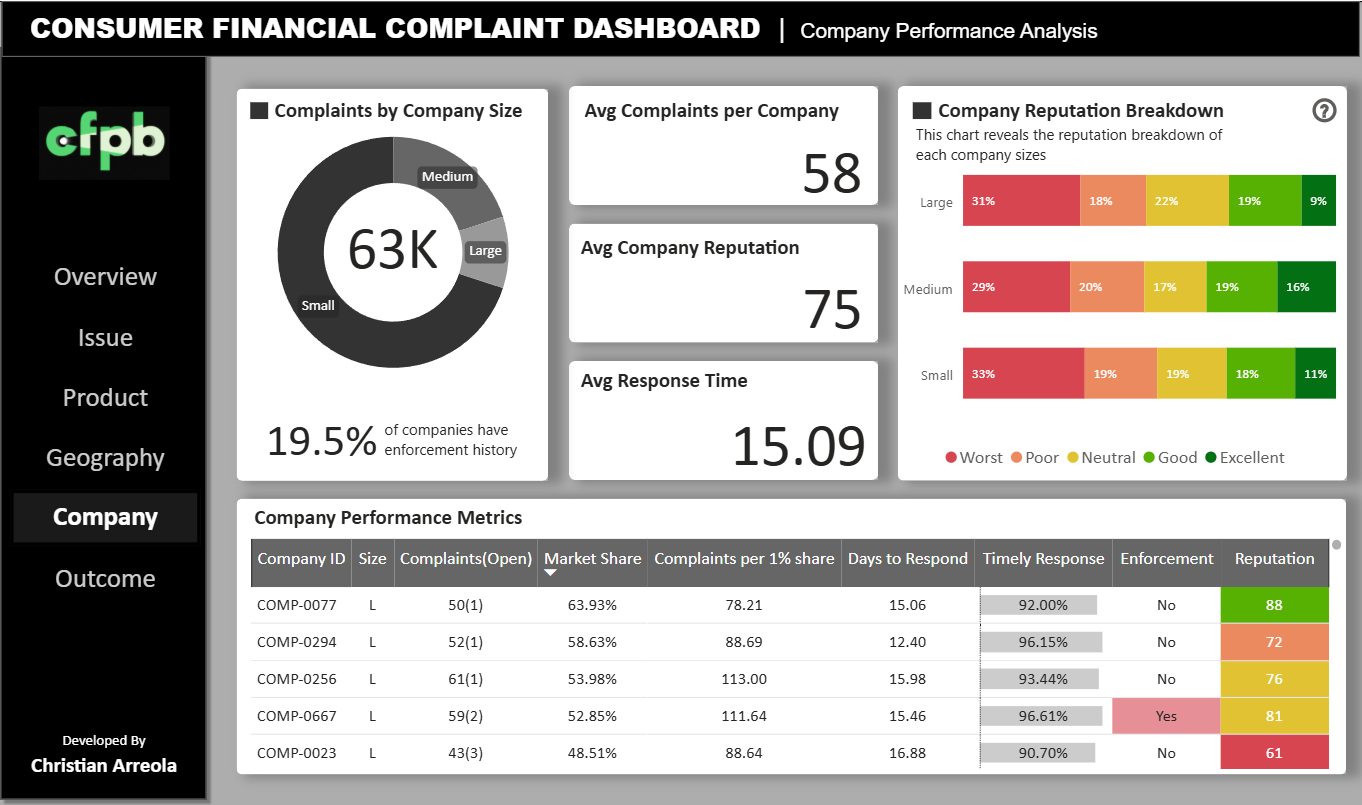

The page's visual inventory and layout, read from the dashboard file:
{"tool":"powerbi","page":{"name":"Company","canvas":[1280,720],"ordinal":4},"visuals":[{"type":"shape","box":[553.8,198.8,276.2,106.2],"z":1000},{"type":"shape","box":[553.8,321.2,276.2,106.2],"z":2000},{"type":"shape","box":[553.8,76.2,276.2,106.2],"z":3000},{"type":"shape","box":[256.9,78.3,278.5,350.6],"z":4000},{"type":"shape","box":[256.8,443.9,991.2,246.7],"z":5000},{"type":"shape","box":[39.6,34.8,197.8,685.5],"z":6000},{"type":"shape","box":[46.5,0,1213.5,50],"z":7000},{"type":"textbox","box":[51.5,2.4,1168.5,50.3],"z":8000},{"type":"donutChart","fields":{"Category":["Company1.Company_Size_Tier"],"Y":["CountNonNull(Company1.Company_Size_Tier)"]},"box":[225,38.8,345,371.2],"z":9000},{"type":"card","fields":{"Values":["Avg(Company1.Avg_Response_Time_Days)"]},"box":[692.5,361.2,133.8,61.2],"z":10000},{"type":"card","fields":{"Values":["Avg(Company1.Reputation_Score)"]},"box":[752.5,240,73.8,60],"z":11000},{"type":"tableEx","fields":{"Values":["Company1.Company_ID_1081","Company1.CompanySizeAbbr","Company1.Complaints w/ Open Complaints","Company1.Market_Share_Percent","Company1.Complaints_per_1pct_Share","Company1.Avg_Response_Time_Days","Company1.Timely_Response_Rate","Company1.Enforcement_History","Company1.Reputation_Score"]},"box":[264,475.7,985.4,215],"z":12000},{"type":"textbox","box":[264,443.9,376.6,43.3],"z":13000},{"type":"card","fields":{"Values":["Complaints.Complaint Count"]},"box":[328.8,182.5,136.2,67.5],"z":14000},{"type":"textbox","box":[286.2,81.2,248.8,38.8],"z":15000},{"type":"shape","box":[269,89.9,16.2,15],"z":16000},{"type":"card","fields":{"Values":["Avg(Company1.Complaint_Count)"]},"box":[752.5,118.8,72.5,60],"z":17000},{"type":"textbox","box":[562.5,81.2,298.8,37.5],"z":18000},{"type":"textbox","box":[560,203.5,297.3,38.2],"z":19000},{"type":"textbox","box":[559.1,322.8,297.5,38.3],"z":20000},{"type":"shape","box":[847.5,76.2,401.2,352.5],"z":21000},{"type":"hundredPercentStackedBarChart","fields":{"Category":["Company1.Company Size"],"Series":["Company1.Reputation Category"],"Y":["CountNonNull(Company1.Company_ID_1081)"]},"box":[842.5,111.2,401.2,316.2],"z":22000},{"type":"textbox","box":[879,81.2,298.8,37.5],"z":23000},{"type":"shape","box":[861.5,90,16.7,15],"z":24000},{"type":"textbox","box":[859,105,295,50],"z":25000},{"type":"actionButton","box":[1213.8,82.5,30,30],"z":26000},{"type":"card","fields":{"Values":["Company1.Percentage of Companies w/ Enforcement"]},"box":[267.5,360,130,60],"z":27000},{"type":"textbox","box":[384,368.8,141.2,51.2],"z":28000},{"type":"actionButton","box":[54.3,220.4,170,50],"z":29000},{"type":"actionButton","box":[54.3,274.4,170,50],"z":30000},{"type":"actionButton","box":[54.3,328.4,170,50],"z":31000},{"type":"actionButton","box":[54.3,382.4,170,50],"z":32000},{"type":"actionButton","box":[54.3,436.4,170,50],"z":33000},{"type":"actionButton","box":[54.3,490.4,170,50],"z":34000},{"type":"textbox","box":[91.1,645.6,96.7,30],"z":35000},{"type":"textbox","box":[58.2,666.4,160.9,36.4],"z":36000},{"type":"image","box":[75,89.5,128.4,75],"z":37000}]}

Visuals, with their boxes on the page's 1280x720 design canvas (x1, y1, x2, y2). These are canvas units, not pixel positions in the 1362x805 screenshot, which may show the page scaled, cropped or inside an application window:
shape: [x1=554, y1=199, x2=830, y2=305]
shape: [x1=554, y1=321, x2=830, y2=427]
shape: [x1=554, y1=76, x2=830, y2=182]
shape: [x1=257, y1=78, x2=535, y2=429]
shape: [x1=257, y1=444, x2=1248, y2=691]
shape: [x1=40, y1=35, x2=237, y2=720]
shape: [x1=46, y1=0, x2=1260, y2=50]
textbox: [x1=52, y1=2, x2=1220, y2=53]
donutChart - Company1.Company_Size_Tier x CountNonNull(Company1.Company_Size_Tier): [x1=225, y1=39, x2=570, y2=410]
card - Avg(Company1.Avg_Response_Time_Days): [x1=692, y1=361, x2=826, y2=422]
card - Avg(Company1.Reputation_Score): [x1=752, y1=240, x2=826, y2=300]
tableEx - Company1.Company_ID_1081 x Company1.CompanySizeAbbr: [x1=264, y1=476, x2=1249, y2=691]
textbox: [x1=264, y1=444, x2=641, y2=487]
card - Complaints.Complaint Count: [x1=329, y1=182, x2=465, y2=250]
textbox: [x1=286, y1=81, x2=535, y2=120]
shape: [x1=269, y1=90, x2=285, y2=105]
card - Avg(Company1.Complaint_Count): [x1=752, y1=119, x2=825, y2=179]
textbox: [x1=562, y1=81, x2=861, y2=119]
textbox: [x1=560, y1=204, x2=857, y2=242]
textbox: [x1=559, y1=323, x2=857, y2=361]
shape: [x1=848, y1=76, x2=1249, y2=429]
hundredPercentStackedBarChart - Company1.Company Size x Company1.Reputation Category: [x1=842, y1=111, x2=1244, y2=427]
textbox: [x1=879, y1=81, x2=1178, y2=119]
shape: [x1=862, y1=90, x2=878, y2=105]
textbox: [x1=859, y1=105, x2=1154, y2=155]
actionButton: [x1=1214, y1=82, x2=1244, y2=112]
card - Company1.Percentage of Companies w/ Enforcement: [x1=268, y1=360, x2=398, y2=420]
textbox: [x1=384, y1=369, x2=525, y2=420]
actionButton: [x1=54, y1=220, x2=224, y2=270]
actionButton: [x1=54, y1=274, x2=224, y2=324]
actionButton: [x1=54, y1=328, x2=224, y2=378]
actionButton: [x1=54, y1=382, x2=224, y2=432]
actionButton: [x1=54, y1=436, x2=224, y2=486]
actionButton: [x1=54, y1=490, x2=224, y2=540]
textbox: [x1=91, y1=646, x2=188, y2=676]
textbox: [x1=58, y1=666, x2=219, y2=703]
image: [x1=75, y1=90, x2=203, y2=164]
